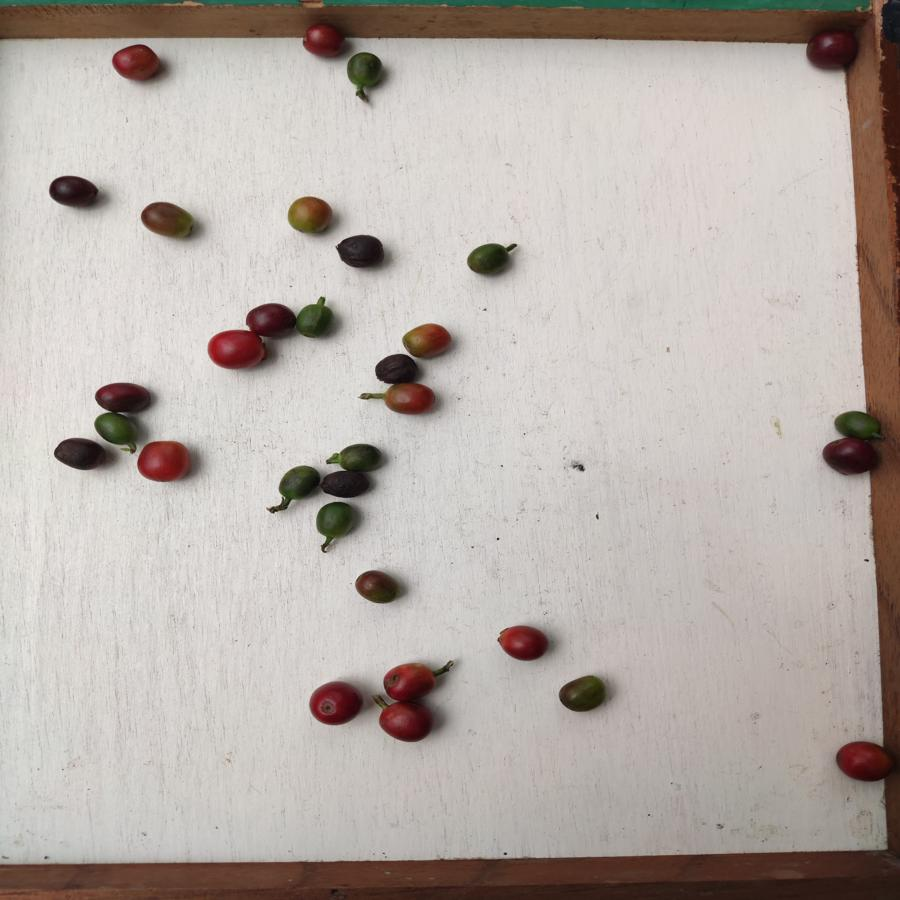Inmaduro: (803, 29, 858, 68), (93, 408, 140, 447), (832, 409, 883, 441), (464, 243, 510, 276), (280, 466, 321, 503), (296, 303, 339, 338), (346, 50, 383, 90), (315, 502, 355, 539), (332, 442, 383, 471)
Maduro: (832, 736, 893, 785), (305, 680, 365, 726), (204, 330, 269, 371), (376, 701, 436, 744), (137, 439, 191, 485), (108, 37, 162, 82), (378, 662, 437, 702), (495, 621, 548, 662), (301, 20, 348, 59)
Pinton: (141, 201, 197, 242), (380, 382, 439, 419), (556, 674, 609, 714), (286, 194, 334, 237), (402, 324, 453, 359), (352, 569, 401, 604)
Sobremaduro: (821, 438, 882, 478), (54, 436, 108, 473), (93, 381, 153, 413), (335, 233, 384, 270), (245, 303, 295, 337), (48, 176, 99, 207), (374, 352, 420, 384), (320, 471, 370, 498)
